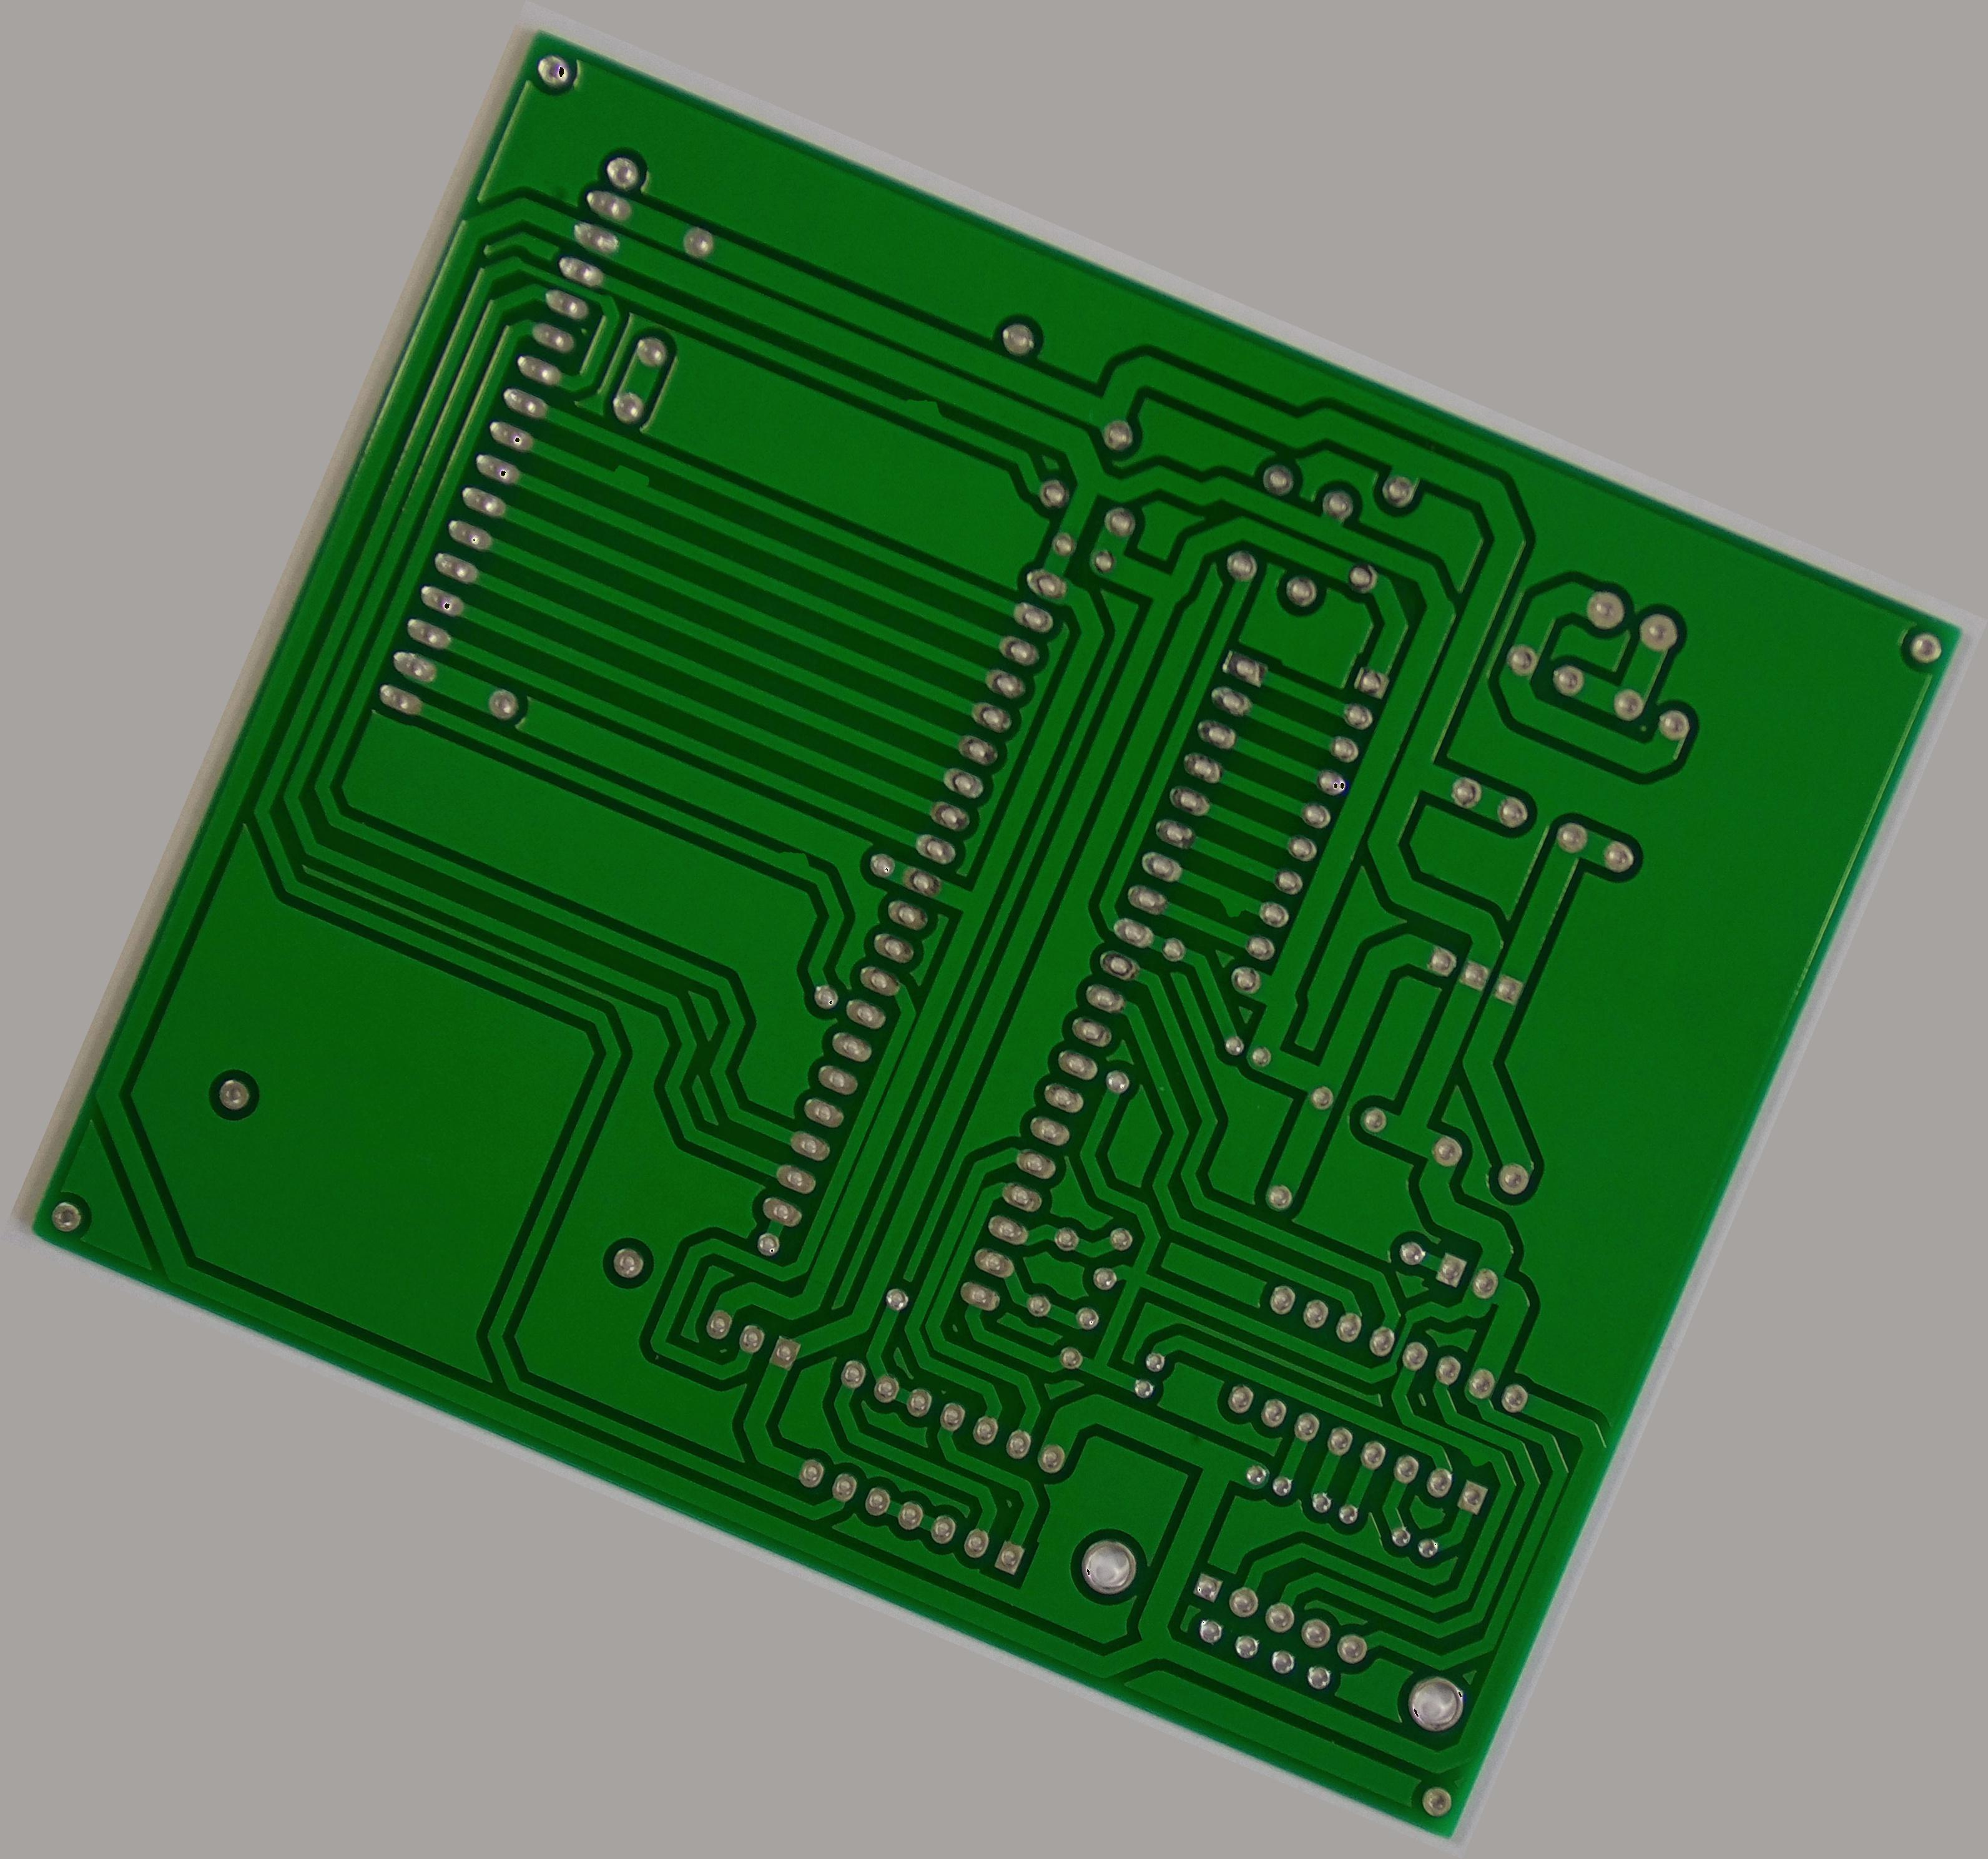spur: (592, 451, 664, 505), (1198, 875, 1260, 930), (763, 832, 823, 886), (1445, 1427, 1501, 1478), (894, 384, 952, 433)
